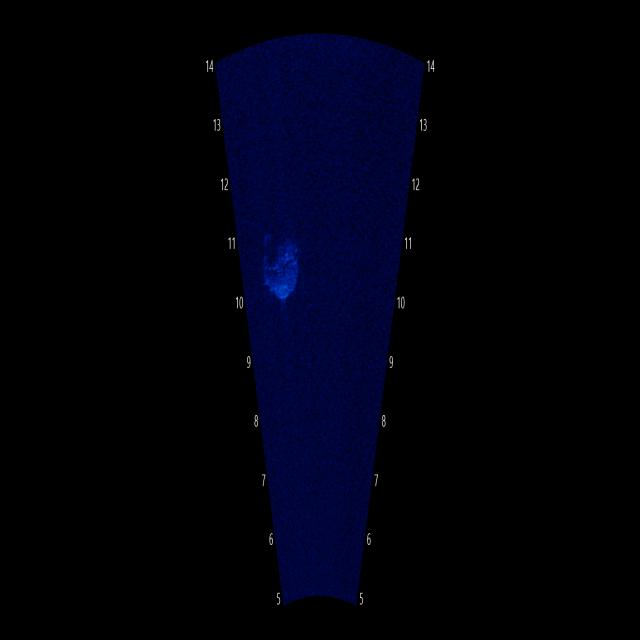circle: (258, 210, 304, 309)
